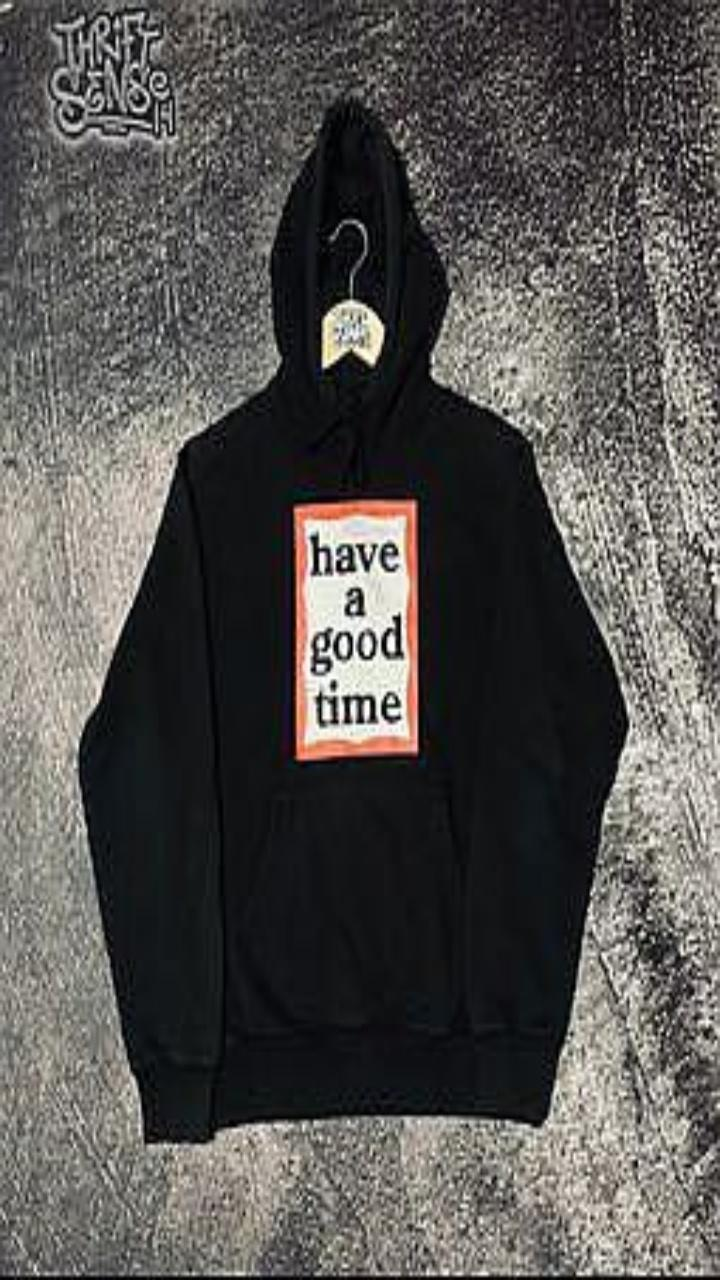Hoodie: (80, 98, 627, 1142)
